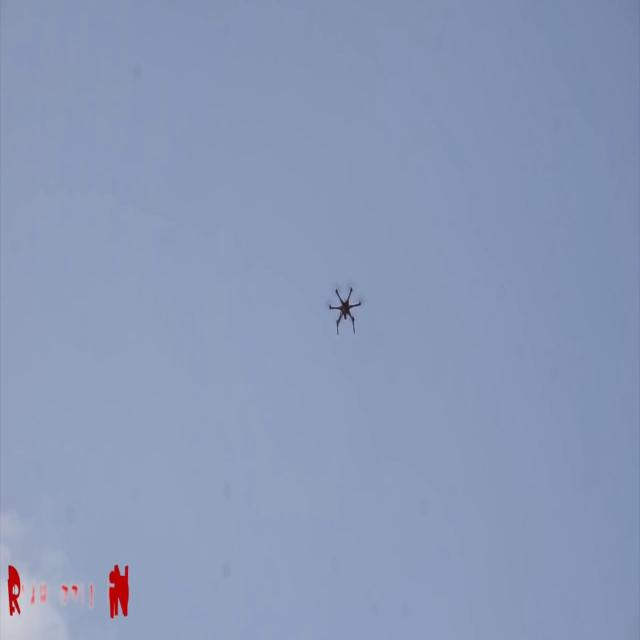drone: (328, 270, 360, 336)
